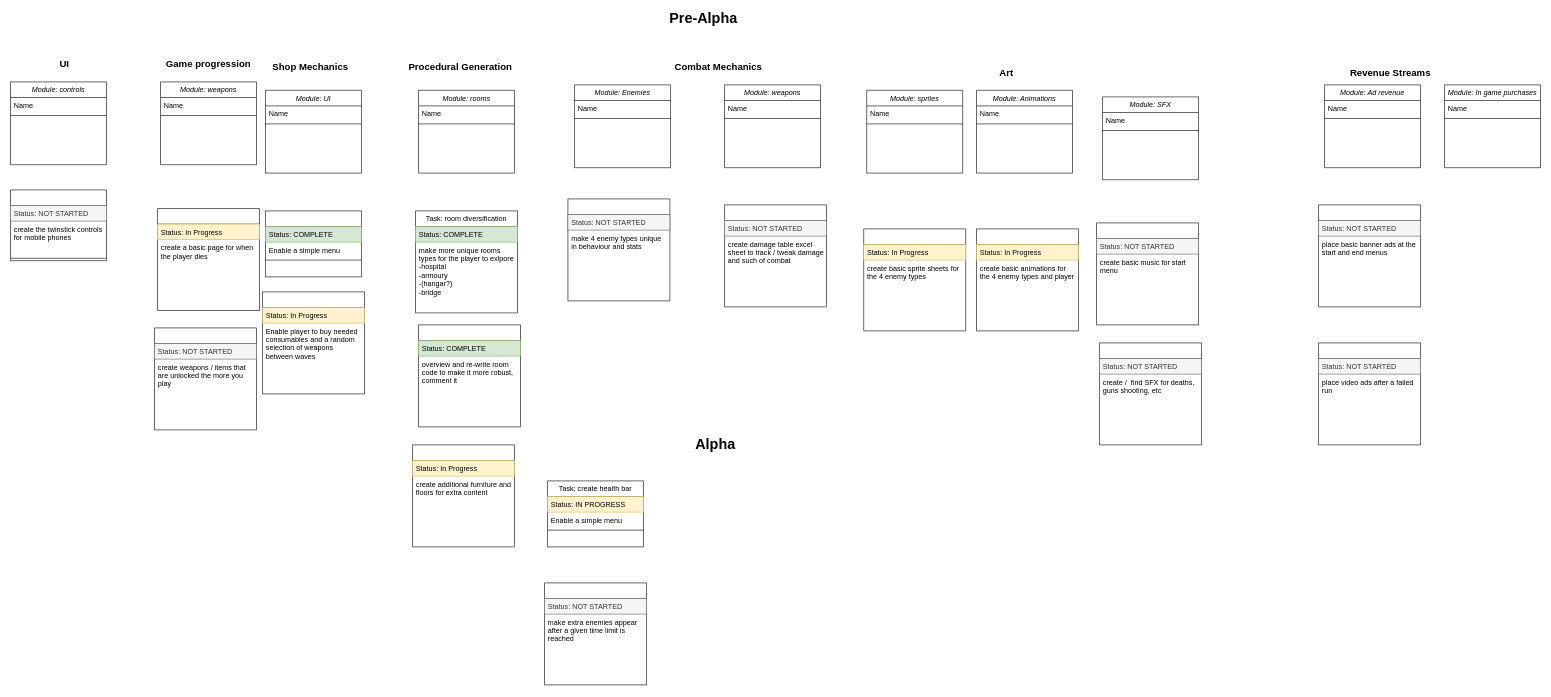
Image size: 1551x697. Some labels were removed from this diagram. Here are the shapes that lost their labels. From the top down, the box of each, then its label:
(10, 189, 106, 261): Task: mobile contols
(265, 210, 362, 277): Task: Enable Simple Menu
(157, 208, 260, 310): Task: Basic "you lost" menu
(567, 198, 670, 301): Task: enemy diversification
(724, 204, 826, 307): Task: damage table
(1318, 204, 1420, 307): Task: Basic banner ads
(863, 228, 966, 331): Task: Basic sprites
(976, 228, 1078, 331): Task: Basic animation
(1096, 222, 1198, 325): Task: music
(262, 291, 364, 394): Task: Basic Item Shopping
(154, 327, 256, 430): Task: persistent progression
(418, 324, 520, 427): Task: room code rebuff
(1099, 342, 1202, 445): Task: sound effects
(1318, 342, 1420, 445): Task: Video ads
(412, 444, 514, 547): Task: Furniture creation
(544, 582, 646, 685): Task: reinforcements
